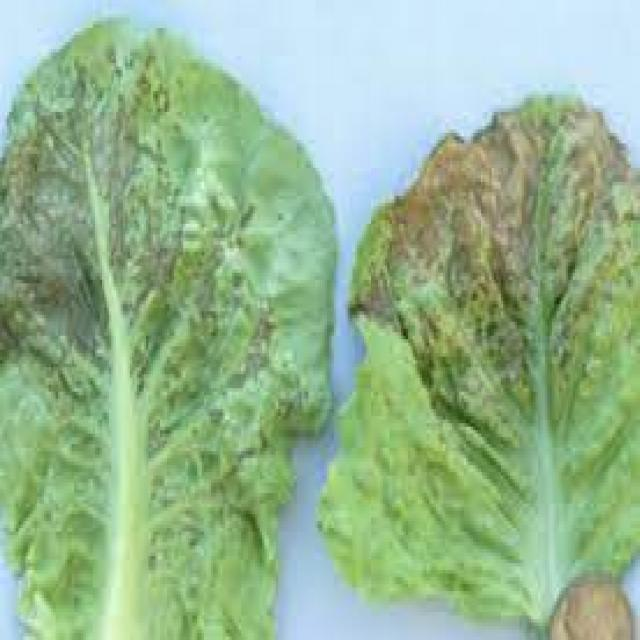Lettuce: (0, 18, 336, 640), (328, 83, 640, 626)
